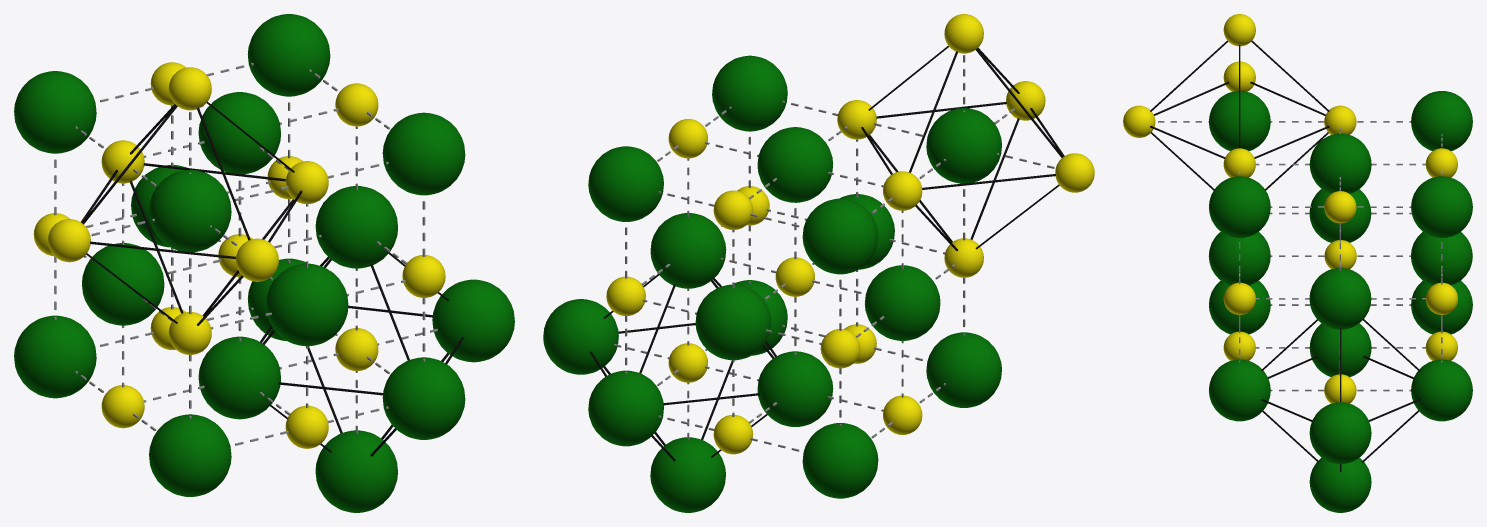
Rendered from nacl_jingti.obj.
3 views of the same model, side by side, from view 1: azimuth 30°, elevation 25°; view 2: azimuth 150°, elevation 25°; view 3: azimuth 270°, elevation 25° (orthographic). The views are drawn at different scales.
Visible parts, largest first — view 1: nacl, Object, Object001; view 2: nacl, Object, Object001; view 3: nacl, Object, Object001.
Boxes of the visible parts, x1=… form: nacl: x1=14, y1=14, x2=465, y2=496; Object: x1=260, y1=252, x2=514, y2=512; Object001: x1=48, y1=67, x2=302, y2=325; nacl: x1=588, y1=55, x2=1001, y2=498; Object: x1=543, y1=274, x2=776, y2=512; Object001: x1=861, y1=14, x2=1094, y2=251; nacl: x1=1208, y1=91, x2=1472, y2=421; Object: x1=1261, y1=319, x2=1420, y2=512; Object001: x1=1123, y1=14, x2=1329, y2=190.
Size of the model in its own units: 166 by 165 by 128.
